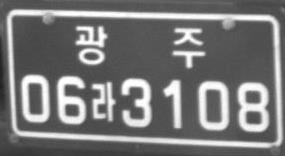0: (196, 79, 230, 131), (19, 73, 51, 123)
1: (161, 78, 190, 129)
3: (120, 76, 153, 128)
6: (55, 74, 86, 125)
8: (236, 80, 270, 132)
광주_D: (74, 25, 206, 69)
라: (91, 80, 116, 121)
